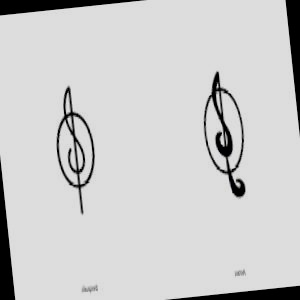stradivarius: (105, 31, 300, 93), (84, 43, 126, 129)
